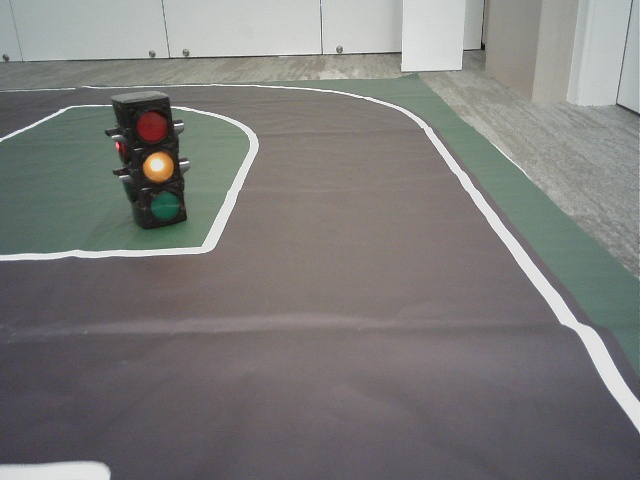yellow: (129, 106, 182, 224)
